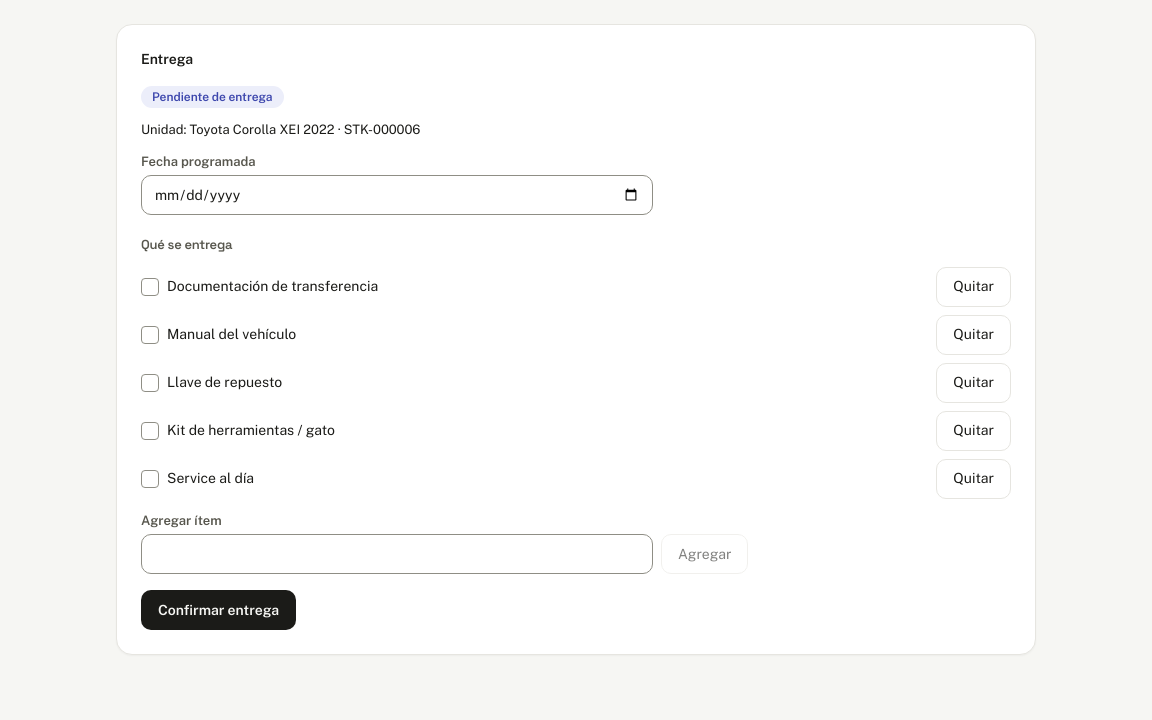
Test: DeliverySection › un 409 al confirmar se muestra en la tarjeta y la vista se refresca con el estado real
Click the button "Confirmar entrega" at (219, 610), box [141, 590, 296, 630]
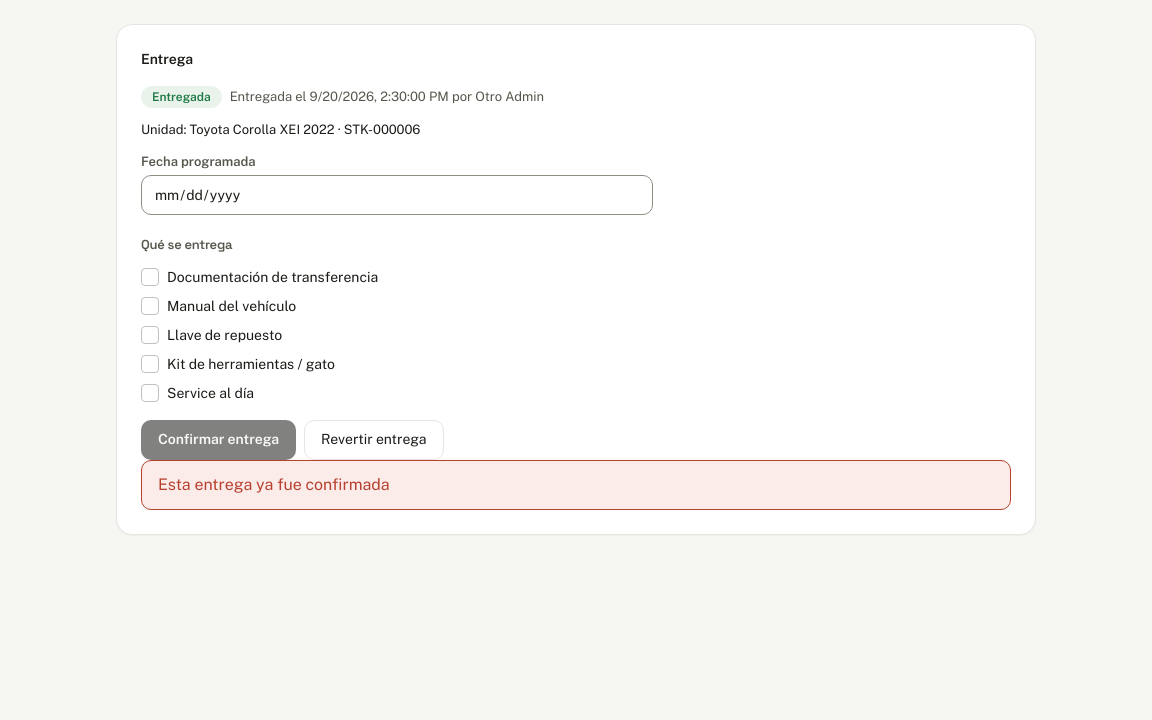
Check: the text "Esta entrega ya fue confirmada" is shown, box [141, 460, 1011, 510]
Check: the text "Entregada el 9/20/2026, 2:30:00 PM por Otro Admin" is shown, box [230, 87, 544, 107]
